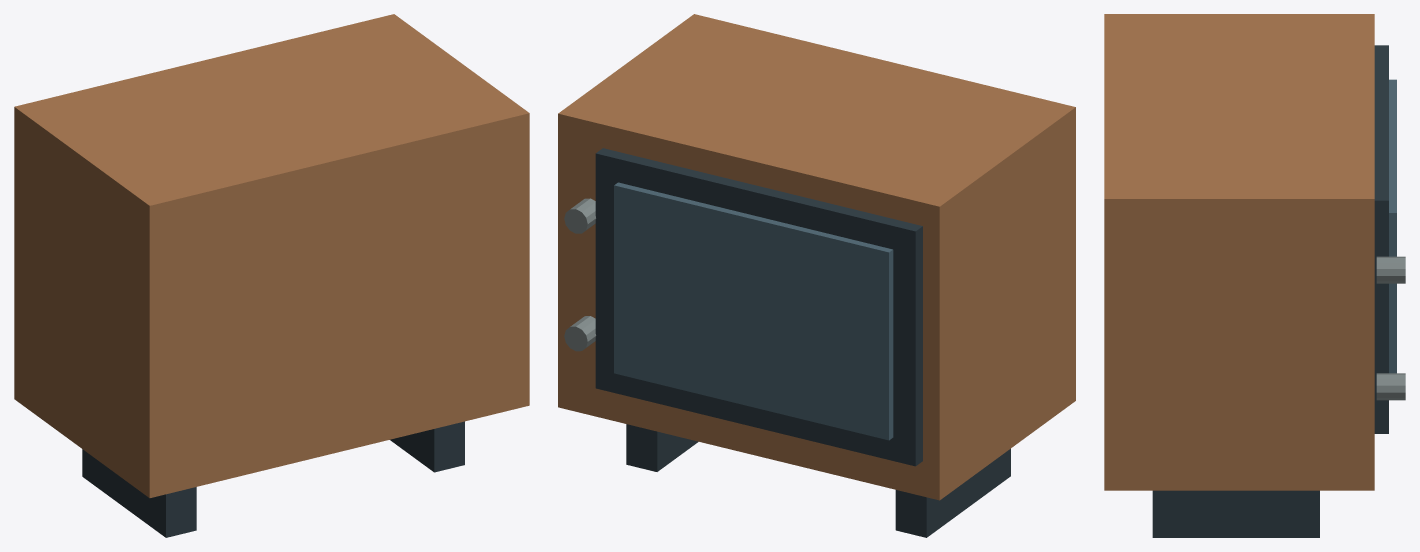
File: television.glb
The picture shows the model from 3 angles, left to right: view 1: azimuth 30°, elevation 25°; view 2: azimuth 150°, elevation 25°; view 3: azimuth 270°, elevation 25°; orthographic projection.
Parts seen in each view (by area): view 1: television; view 2: television; view 3: television.
Part boxes in pixels (bbox=[...]): television: bbox=[14, 14, 529, 537]; television: bbox=[558, 14, 1075, 537]; television: bbox=[1104, 14, 1405, 537].
Size of the model in its own units: 0.68 by 0.615 by 0.4685.
